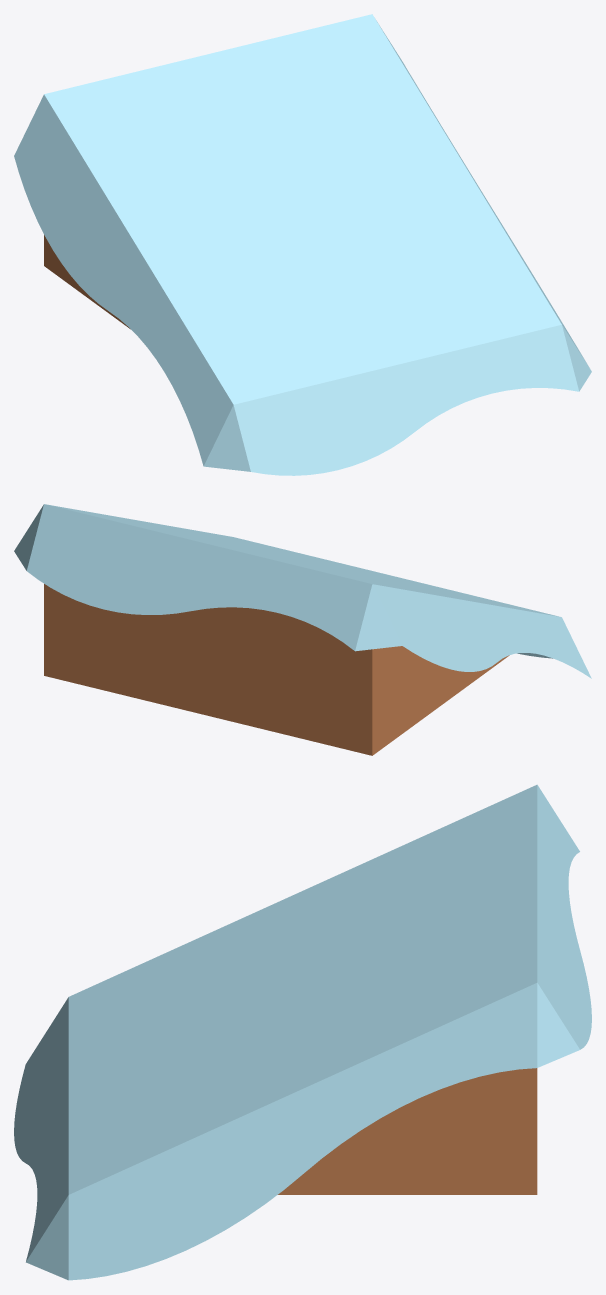
File: blockSnowSlopeHalf.dae
The picture shows the model from 3 angles, top to bottom: view 1: azimuth 30°, elevation 25°; view 2: azimuth 150°, elevation 25°; view 3: azimuth 270°, elevation 25°; orthographic projection. The views are drawn at different scales.
Visible parts, largest first — view 1: blockSnowSlopeHalf; view 2: blockSnowSlopeHalf; view 3: blockSnowSlopeHalf.
Boxes of the visible parts, x1=… form: blockSnowSlopeHalf: x1=14, y1=14, x2=591, y2=475; blockSnowSlopeHalf: x1=14, y1=504, x2=591, y2=755; blockSnowSlopeHalf: x1=14, y1=784, x2=591, y2=1280.
Size of the model in its own units: 1.23 by 0.7018 by 1.23.
